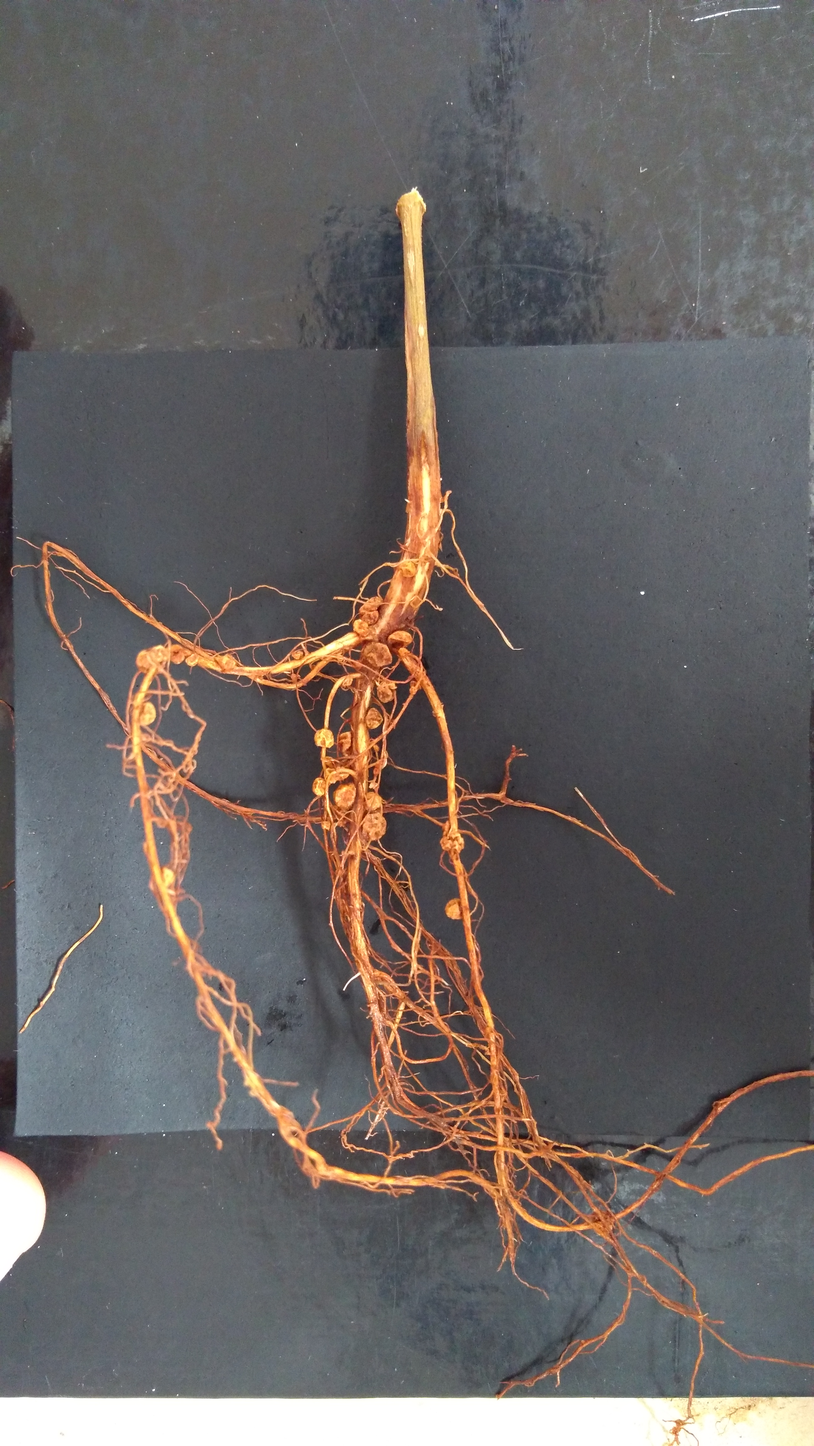nodule: (135, 643, 169, 675), (146, 865, 175, 897), (362, 641, 394, 669), (438, 829, 465, 856), (363, 812, 386, 842), (332, 781, 356, 809), (591, 1209, 614, 1237), (388, 629, 414, 651), (374, 681, 398, 704), (357, 596, 383, 616), (137, 701, 157, 727), (444, 897, 465, 921), (364, 706, 384, 730), (313, 728, 335, 749), (326, 765, 349, 785), (363, 790, 382, 813), (213, 654, 237, 672), (168, 643, 186, 666), (357, 610, 381, 626), (397, 560, 417, 578), (352, 618, 370, 637), (338, 730, 352, 753), (311, 776, 326, 797), (408, 680, 422, 695), (184, 653, 199, 667), (321, 755, 336, 767), (291, 650, 304, 661), (342, 676, 353, 687), (321, 820, 331, 830), (291, 673, 298, 684), (373, 744, 380, 752), (373, 768, 379, 777)
